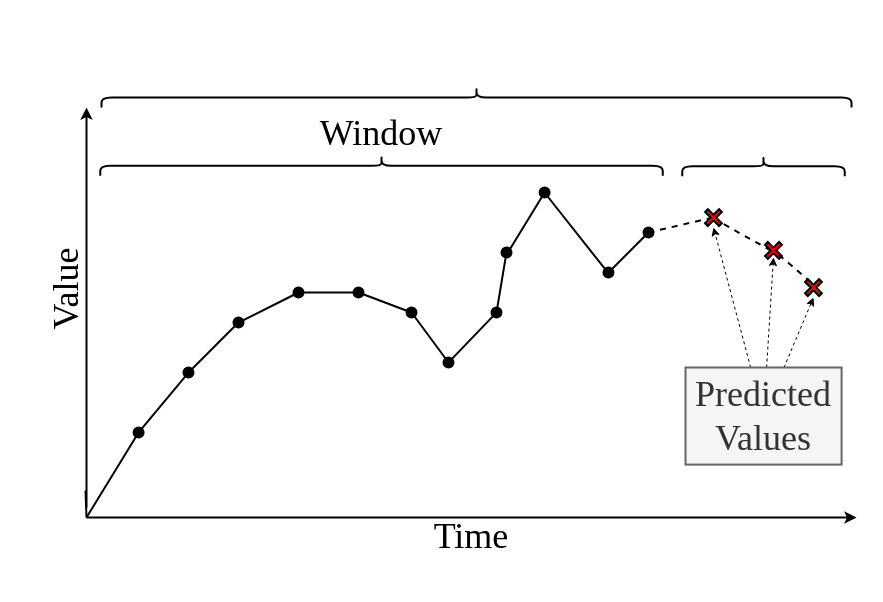
The diagram is 883 pixels wide and 602 high, and some of its shapes have lost their labels. The centre of each missing label's shape, as x and y in pixels:
Horizon: the point at 763,166
Sequence: the point at 476,97
